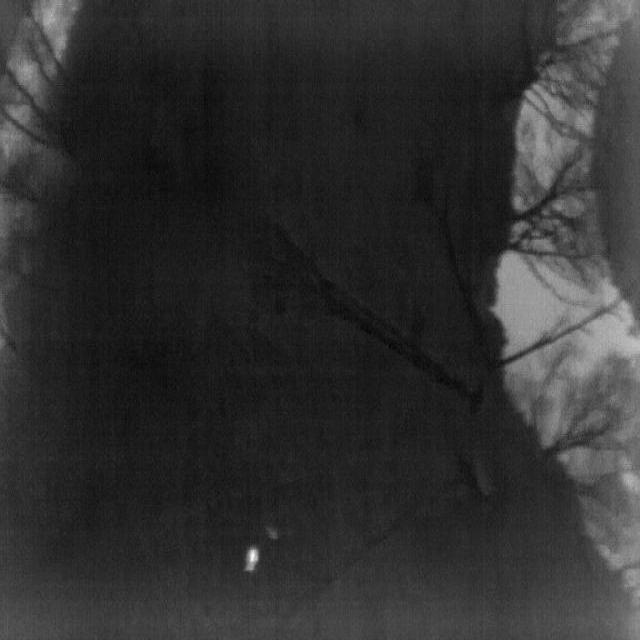deer: (244, 547, 259, 573)
